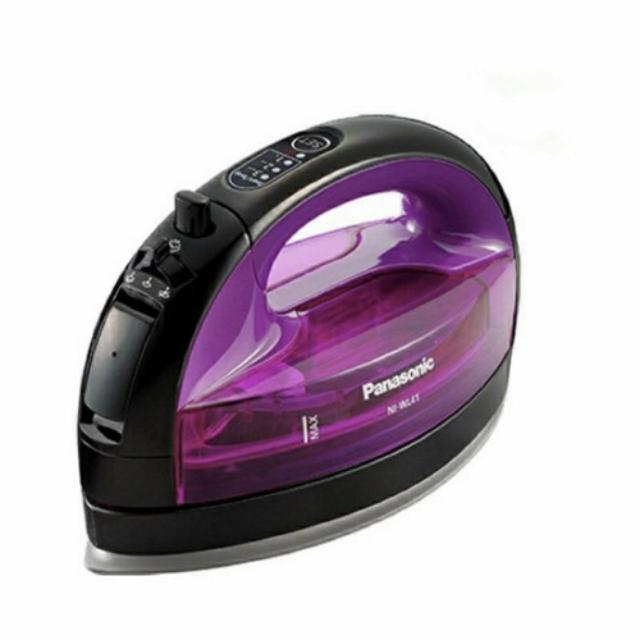Clothes-Iron: (97, 97, 568, 557)
